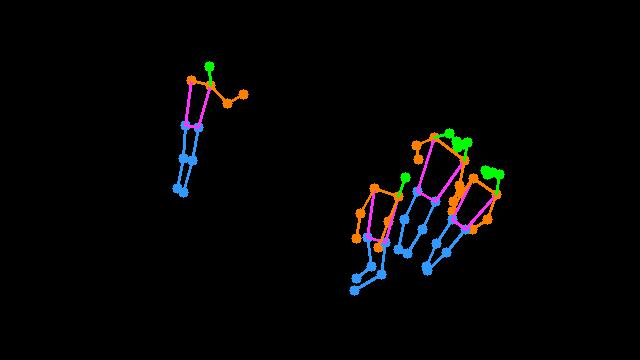normal: (318, 106, 508, 311)
